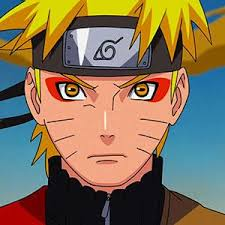naruto: (24, 12, 192, 189)
